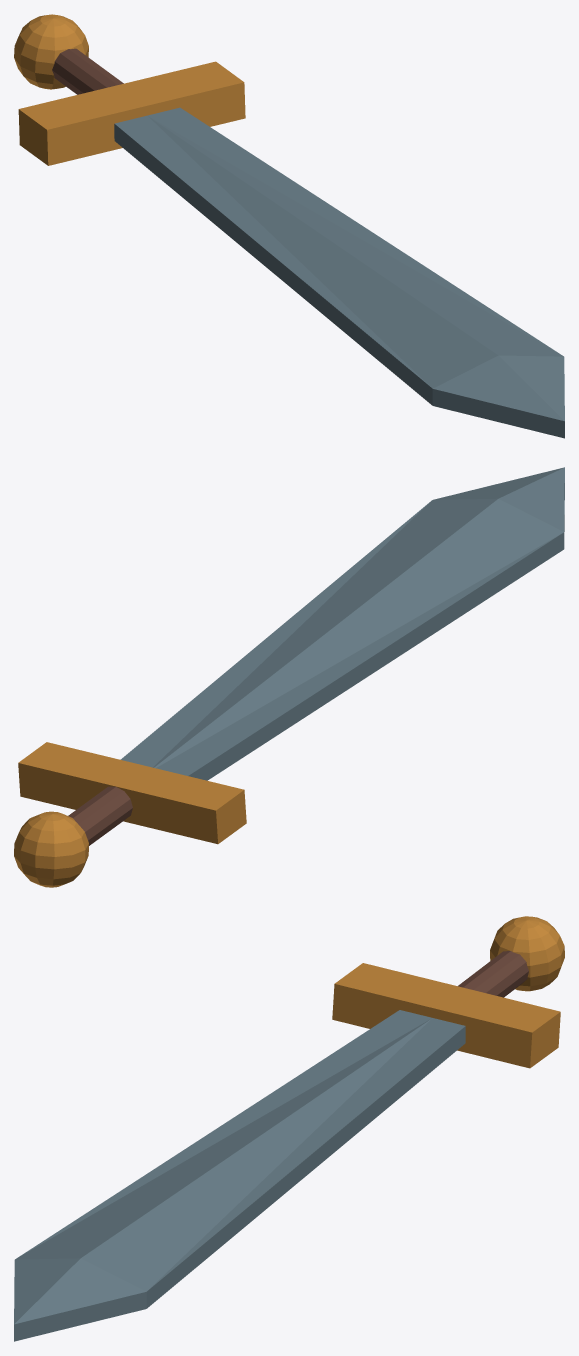
3 renders of one model, top to bottom at view 1: azimuth 30°, elevation 25°; view 2: azimuth 150°, elevation 25°; view 3: azimuth 330°, elevation 25°, orthographic.
Visible parts, largest first — view 1: node_MeshObject594905536-PolyPaper20; view 2: node_MeshObject594905536-PolyPaper20; view 3: node_MeshObject594905536-PolyPaper20.
Boxes of the visible parts, x1=… form: node_MeshObject594905536-PolyPaper20: x1=14, y1=14, x2=564, y2=438; node_MeshObject594905536-PolyPaper20: x1=14, y1=467, x2=564, y2=887; node_MeshObject594905536-PolyPaper20: x1=14, y1=916, x2=564, y2=1341.
Size of the model in its own units: 0.1203 by 0.0399 by 0.56.
